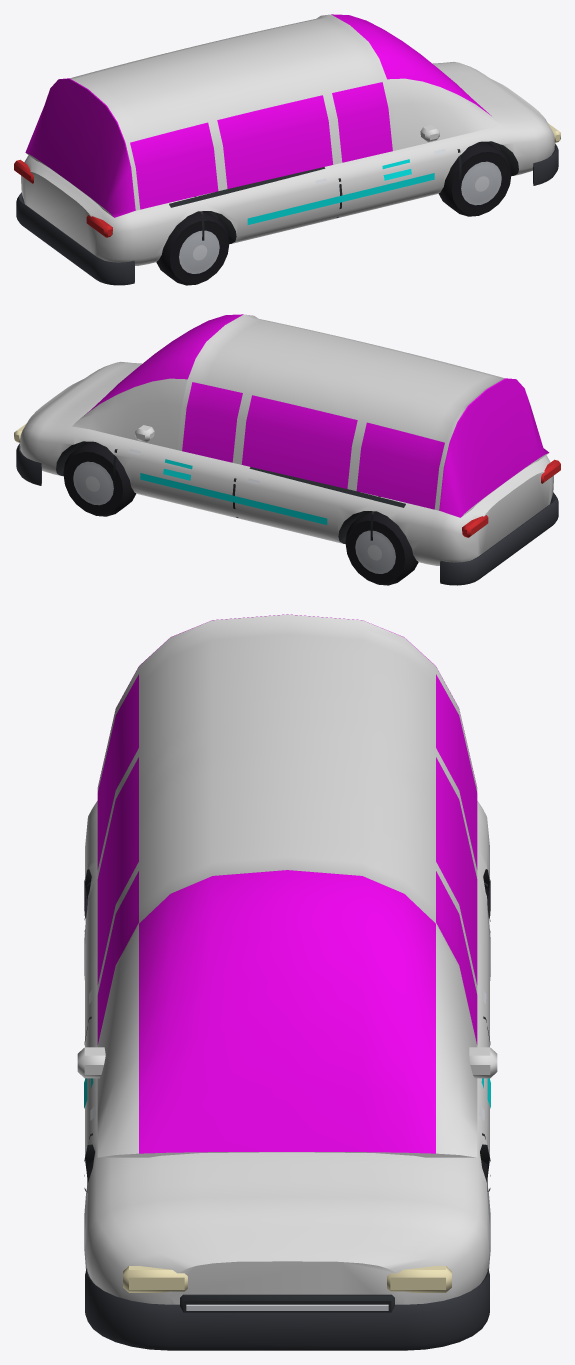
Rendered from minivan.glb.
3 renders of one model, top to bottom at view 1: azimuth 30°, elevation 25°; view 2: azimuth 150°, elevation 25°; view 3: azimuth 270°, elevation 25°, orthographic. The views are drawn at different scales.
Parts seen in each view (by area): view 1: LOD0; view 2: LOD0; view 3: LOD0.
Boxes of the visible parts, <box> form: LOD0: <box>14,14,560,285</box>; LOD0: <box>14,314,560,585</box>; LOD0: <box>77,614,497,1350</box>.
Size of what is drawn, in the model's own units: 5.12 by 1.84 by 1.99.
